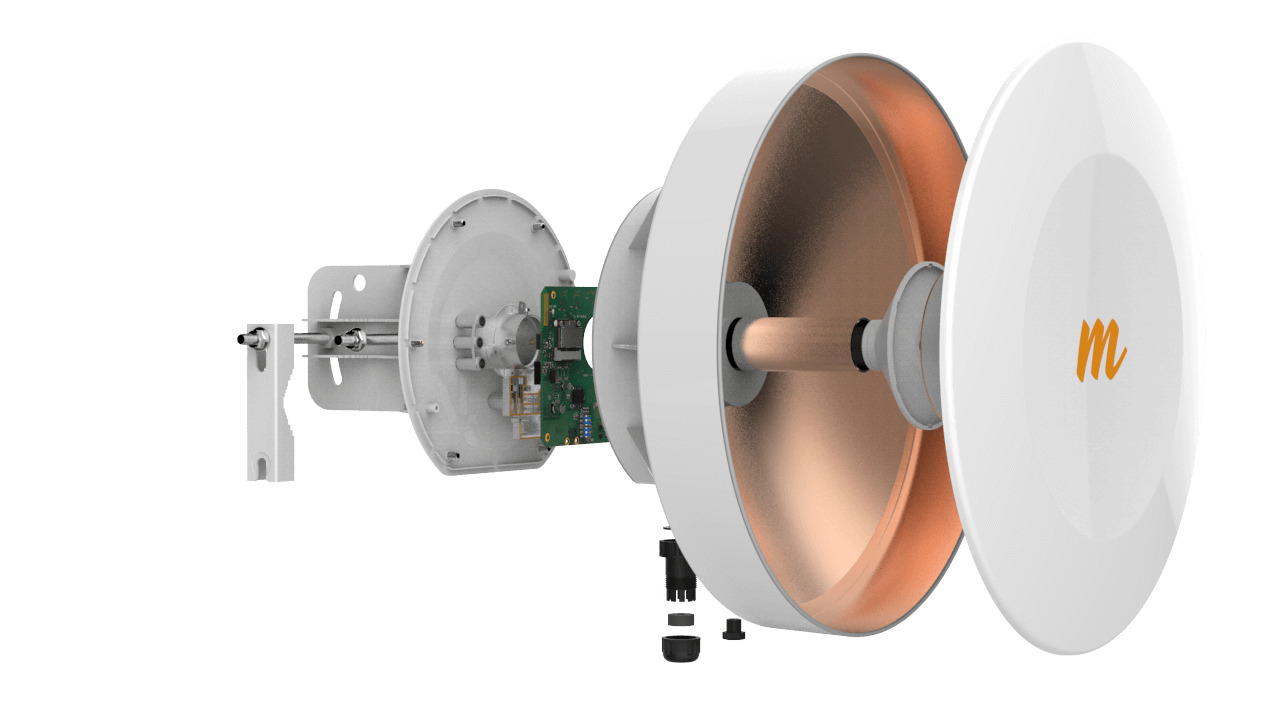ba: (938, 50, 1212, 676)
